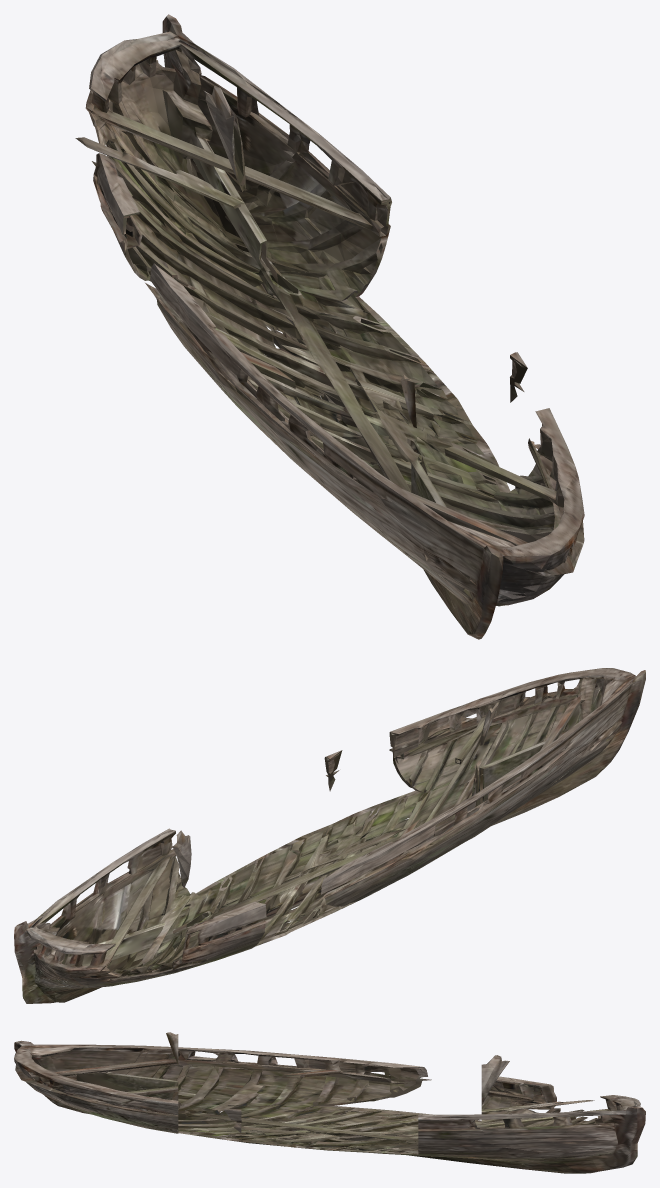
File: wreck.glb
3 views of the same model, one above another, from view 1: azimuth 30°, elevation 25°; view 2: azimuth 150°, elevation 25°; view 3: azimuth 270°, elevation 25° (orthographic). The views are drawn at different scales.
Parts seen in each view (by area): view 1: Lux3D wreck; view 2: Lux3D wreck; view 3: Lux3D wreck.
Boxes of the visible parts, box(x1,y1,x2,y2) form: Lux3D wreck: box(75, 14, 584, 639); Lux3D wreck: box(14, 668, 645, 1003); Lux3D wreck: box(14, 1032, 645, 1173).
Size of the model in its own units: 1.56 by 1 by 5.63.
1 material, 1 textured.
